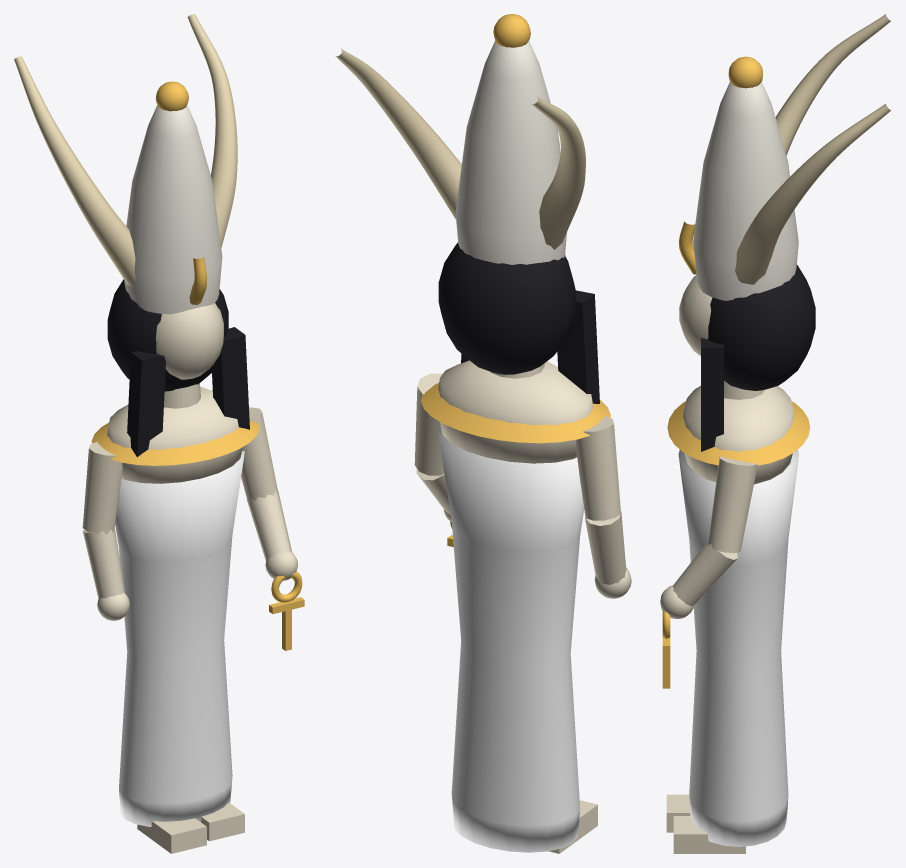
Rendered from guardian-satet.glb.
3 renders of one model, left to right at view 1: azimuth 30°, elevation 25°; view 2: azimuth 150°, elevation 25°; view 3: azimuth 270°, elevation 25°, orthographic. The views are drawn at different scales.
Visible parts, largest first — view 1: figurka; view 2: figurka; view 3: figurka.
Boxes of the visible parts, x1=… form: figurka: x1=14, y1=14, x2=304, y2=853; figurka: x1=335, y1=14, x2=631, y2=853; figurka: x1=660, y1=14, x2=890, y2=853.
Size of the model in its own units: 0.3188 by 1.18 by 0.3197.
